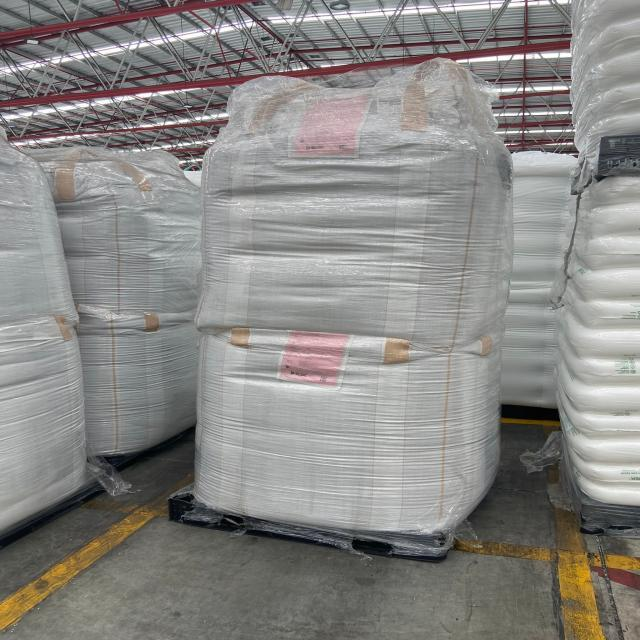gunny_bag: (197, 62, 517, 350), (192, 325, 503, 535)
